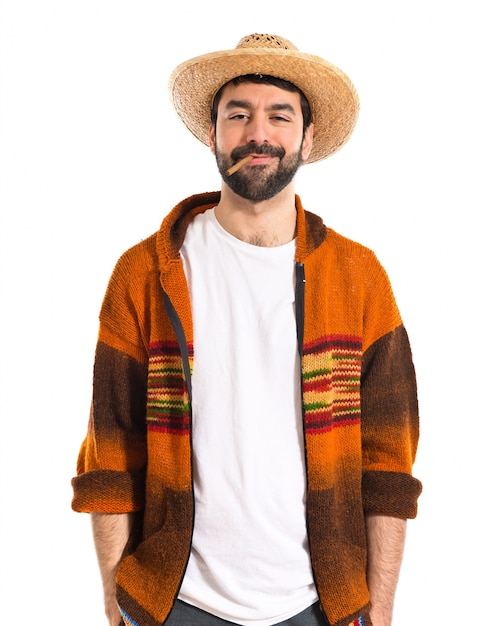cigarette: (226, 152, 255, 173)
